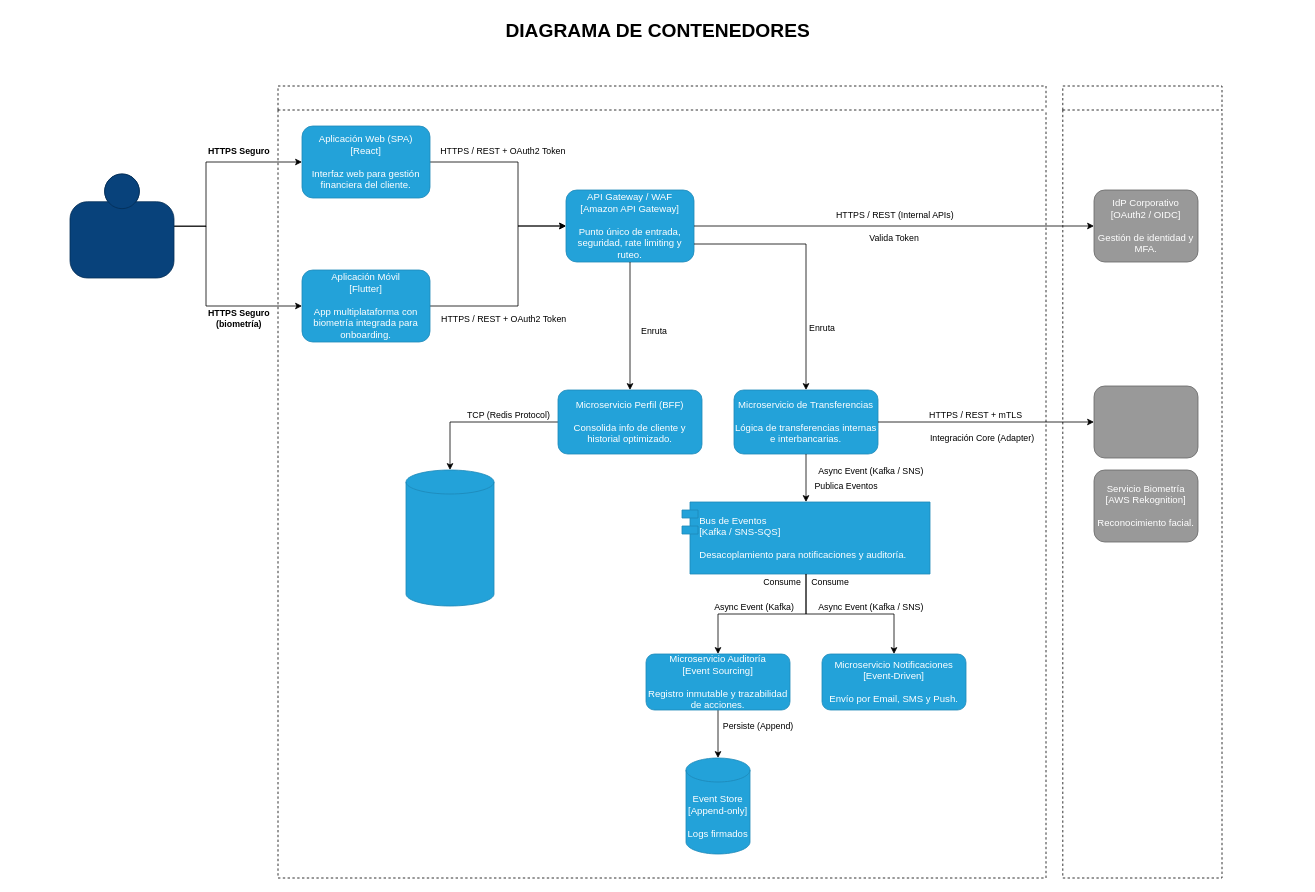
Some shapes in this 1315 by 892 pixel diagram are drawn without their labels. Here are the shapes that lost their labels. From the top down, the box of each, then its label:
(69, 173, 174, 278): Cliente BP Consulta movimientos, realiza transferencias y pagos.
(1093, 385, 1198, 458): Core Bancario [Mainframe/Legacy] Fuente de verdad de cuentas y movimientos.
(277, 85, 1046, 878): Sistema de Banca por Internet - BP
(1062, 85, 1222, 878): Sistemas Externos
(405, 469, 494, 606): Cache Distribuido [Redis] Almacenamiento de clientes frecuentes y sesiones.
